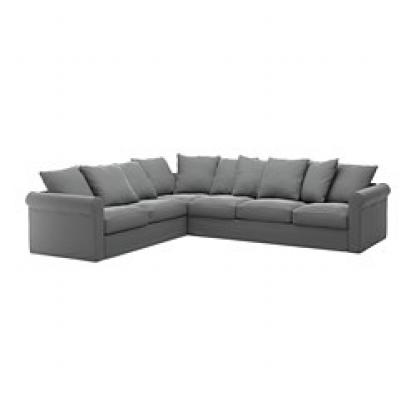Sofa: (12, 125, 394, 278)
